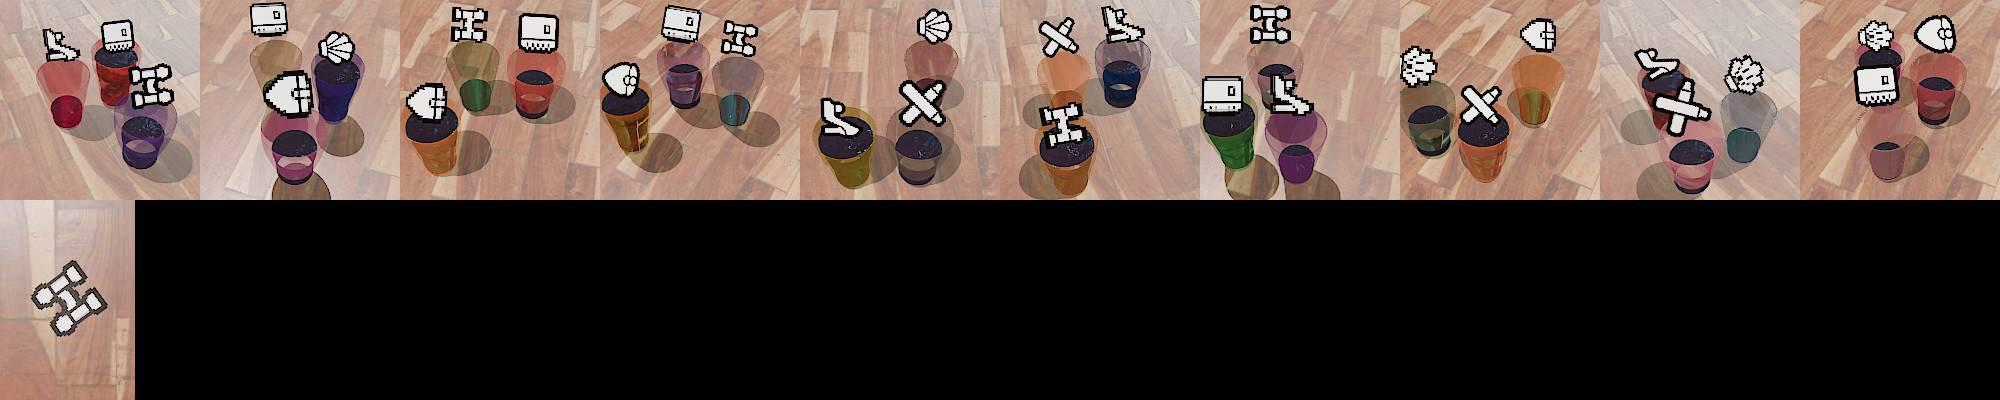icon: (32, 260, 111, 336), (1656, 79, 1712, 136), (261, 69, 315, 117), (898, 78, 948, 129), (1038, 97, 1087, 146), (129, 62, 176, 110), (1459, 83, 1504, 132), (1853, 64, 1901, 107), (404, 83, 452, 125), (1268, 74, 1315, 116), (518, 13, 561, 56), (820, 96, 864, 138), (1249, 3, 1293, 43), (1101, 5, 1145, 46), (661, 4, 703, 45), (1200, 76, 1242, 117), (1915, 15, 1957, 55), (719, 18, 759, 59), (1724, 55, 1764, 96), (1038, 18, 1078, 59), (1399, 45, 1436, 88), (450, 5, 489, 45), (602, 61, 642, 98), (1519, 18, 1557, 55), (318, 29, 356, 66), (916, 8, 953, 45), (249, 3, 288, 37), (1858, 19, 1897, 54), (99, 19, 135, 54), (43, 28, 79, 62), (1634, 47, 1675, 75), (31, 282, 56, 308)
